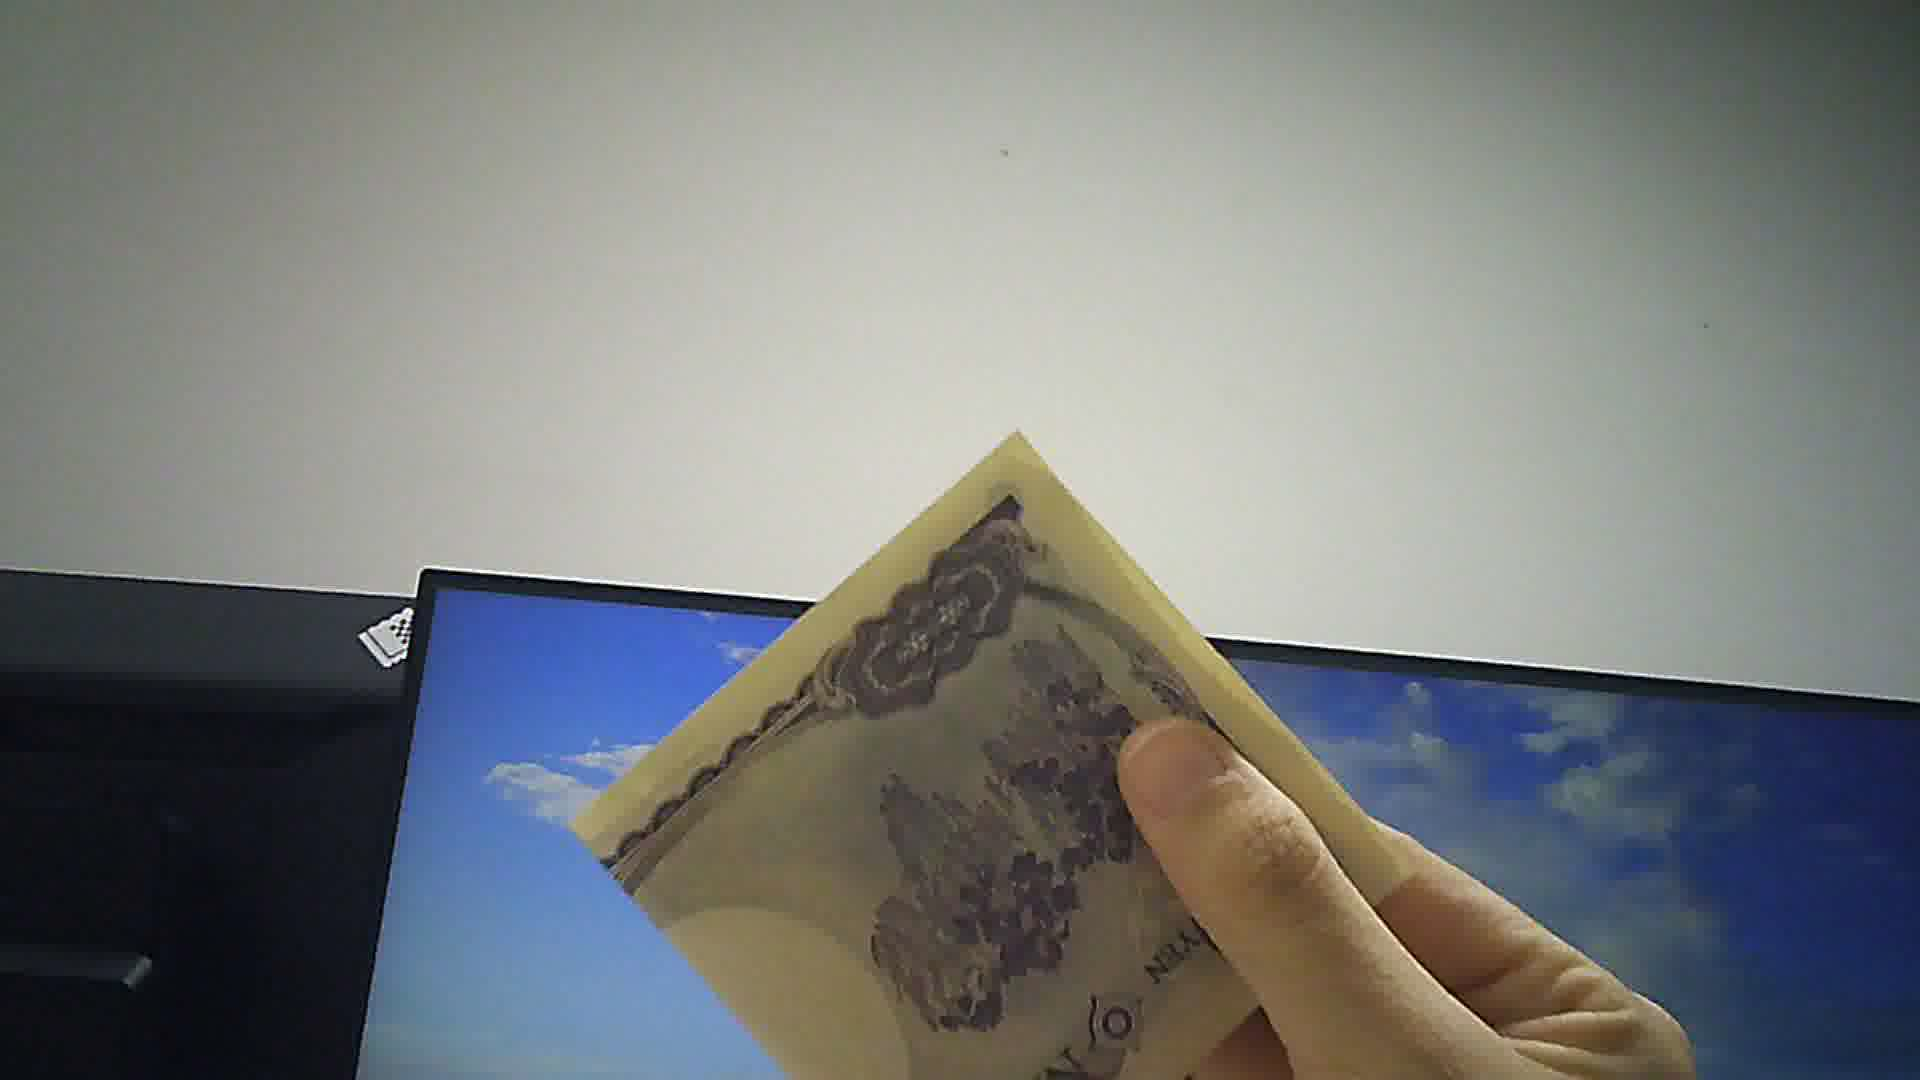5,000 Yen: (574, 426, 1418, 1079)
